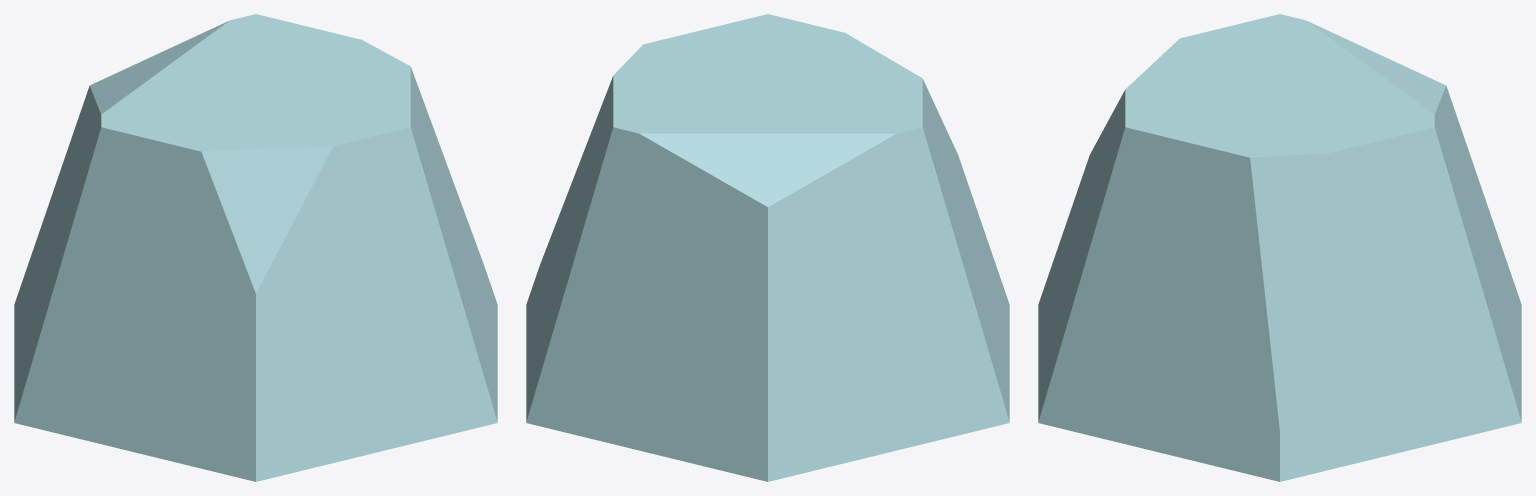
Rendered from stone_smallD.dae.
The picture shows the model from 3 angles, left to right: view 1: azimuth 30°, elevation 25°; view 2: azimuth 150°, elevation 25°; view 3: azimuth 270°, elevation 25°; orthographic projection.
Parts seen in each view (by area): view 1: stone_smallD; view 2: stone_smallD; view 3: stone_smallD.
Boxes of the visible parts, box(x1,y1,x2,y2) form: stone_smallD: box(14, 14, 497, 481); stone_smallD: box(526, 14, 1009, 481); stone_smallD: box(1038, 14, 1521, 481).
Bounding box in the file's own units: 0.4257 × 0.2309 × 0.3687.
